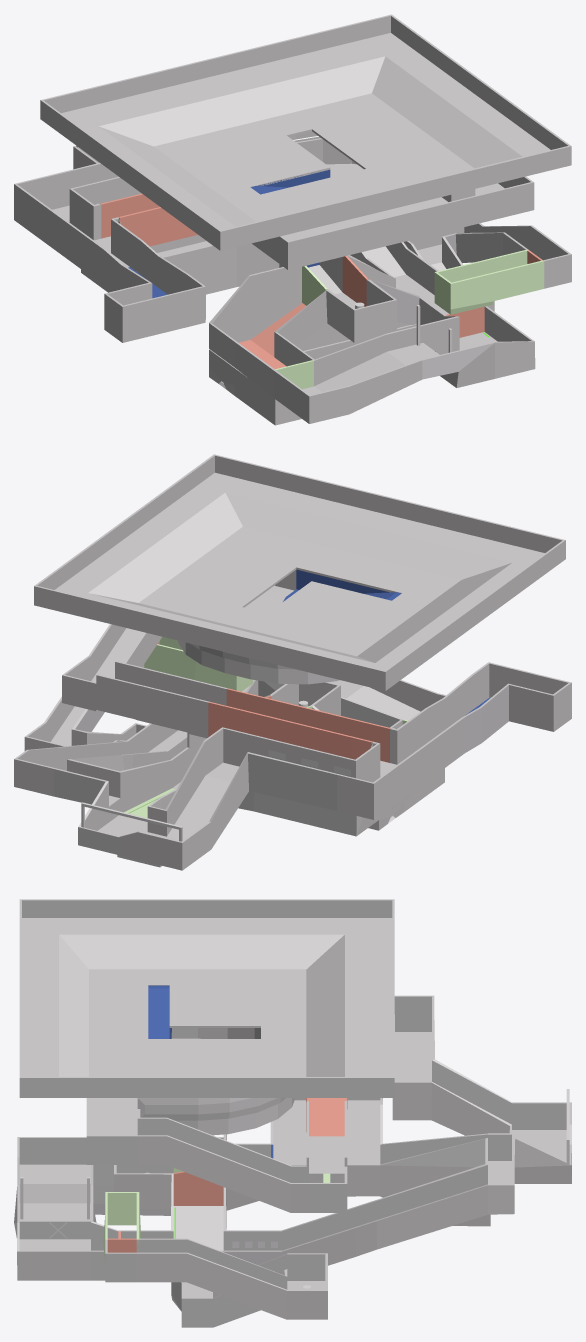
Rendered from map.glb.
The picture shows the model from 3 angles, top to bottom: view 1: azimuth 30°, elevation 25°; view 2: azimuth 150°, elevation 25°; view 3: azimuth 270°, elevation 25°; orthographic projection. The views are drawn at different scales.
Visible parts, largest first — view 1: main_floor, green_floor, red_floor, blue_floor; view 2: main_floor, red_floor, green_floor, blue_floor, white_floor; view 3: main_floor, red_floor, green_floor, blue_floor, white_floor.
Boxes of the visible parts, bbox=[...] form: main_floor: bbox=[14, 14, 571, 425]; green_floor: bbox=[275, 250, 544, 389]; red_floor: bbox=[100, 193, 542, 369]; blue_floor: bbox=[128, 169, 330, 298]; main_floor: bbox=[14, 454, 571, 870]; red_floor: bbox=[158, 641, 390, 762]; green_floor: bbox=[124, 636, 408, 817]; blue_floor: bbox=[283, 569, 490, 715]; white_floor: bbox=[81, 750, 350, 841]; main_floor: bbox=[14, 899, 571, 1327]; red_floor: bbox=[107, 1098, 347, 1252]; green_floor: bbox=[103, 1168, 330, 1265]; blue_floor: bbox=[148, 985, 273, 1158]; white_floor: bbox=[20, 1089, 569, 1288].
Size of the model in its own units: 54.74 by 28.78 by 57.07.
